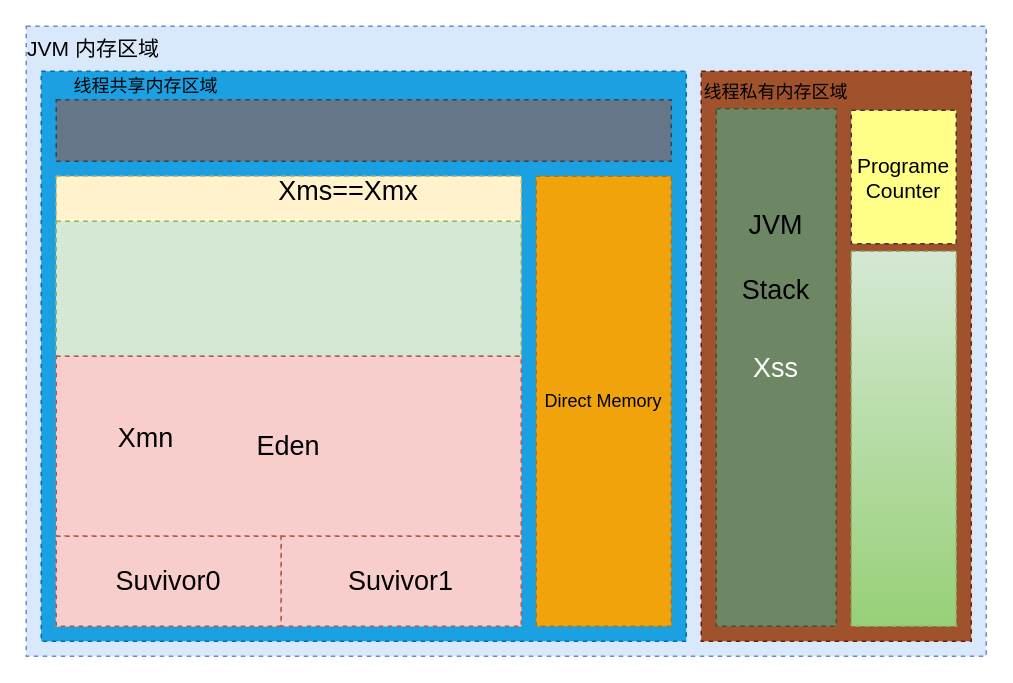
This 1013x683 diagram has some shape labels left out. The shapes that lost their labels are listed below. From the top down, each one's centre as x and y in pixels, then its label:
(363,129): Meta Space
(288,288): Tentured Generation
(903,438): Native Method Stack
